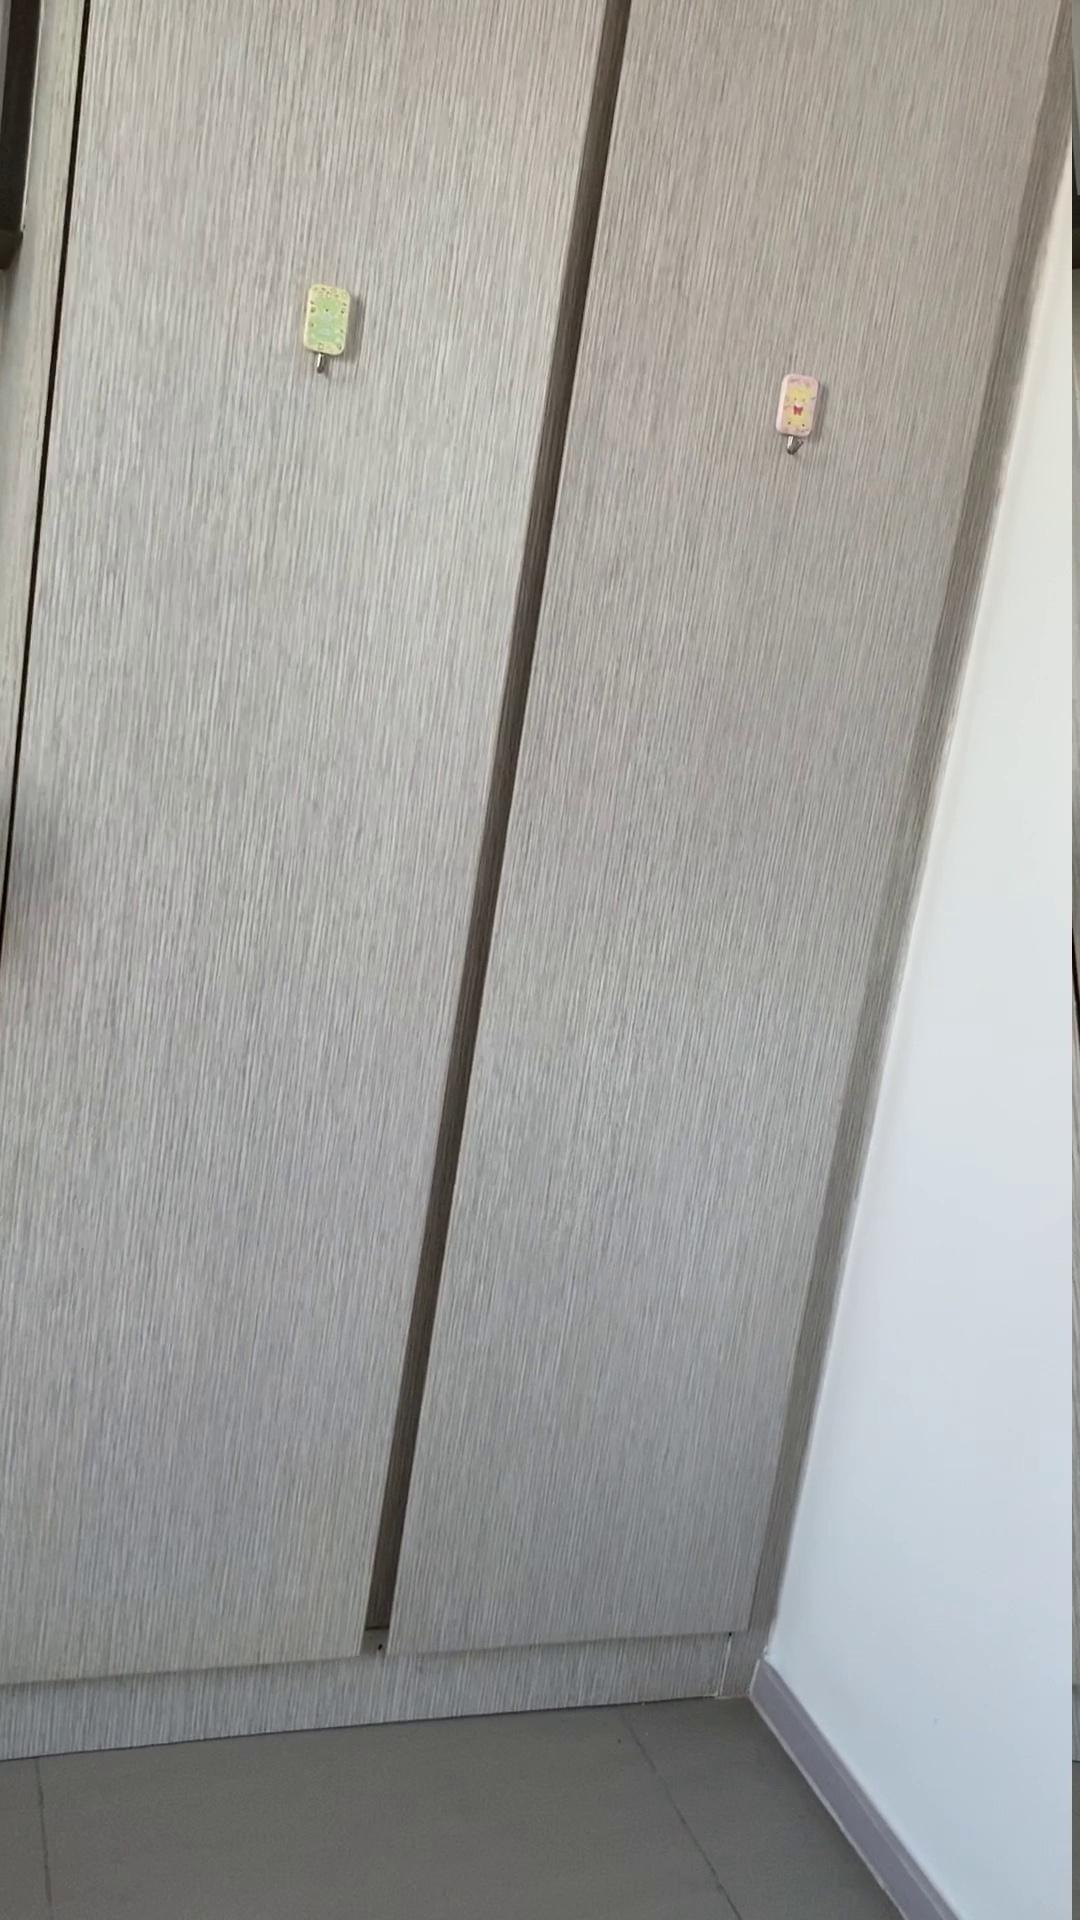Armario: (13, 22, 1067, 1758)
